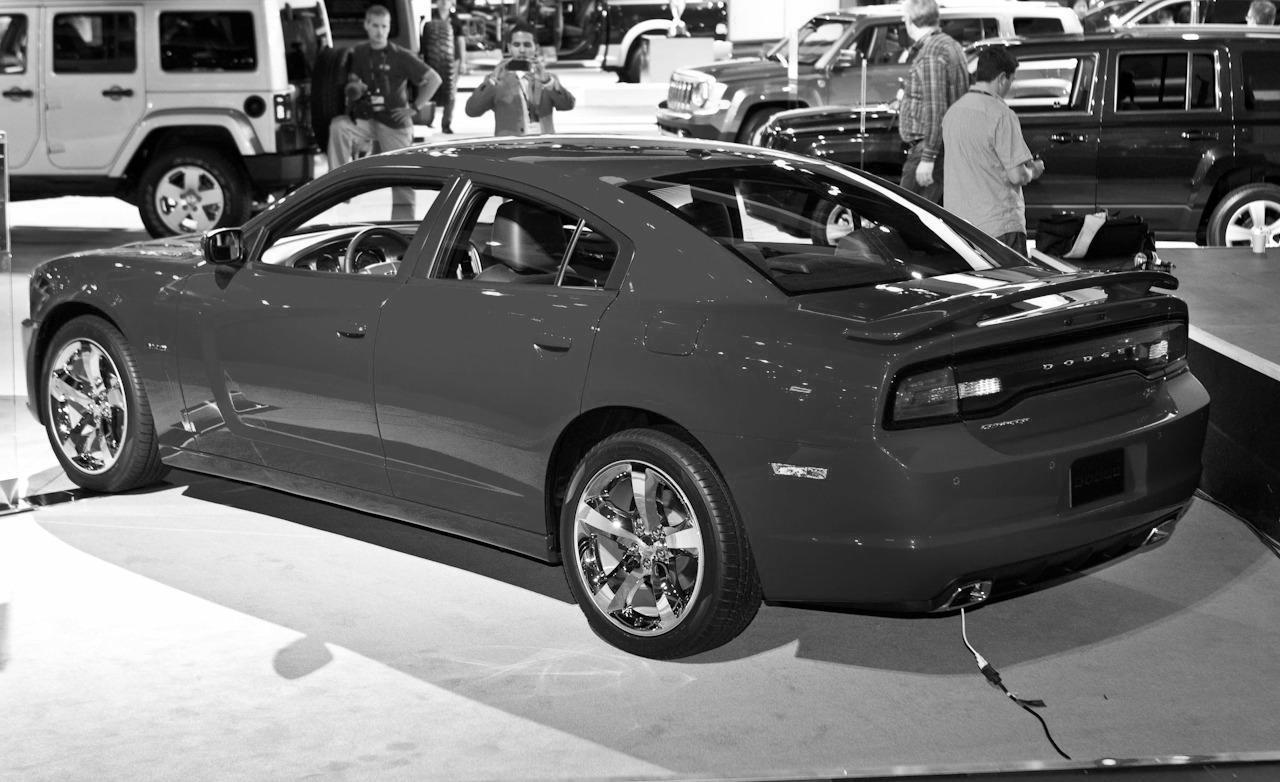car: (26, 132, 1221, 662)
